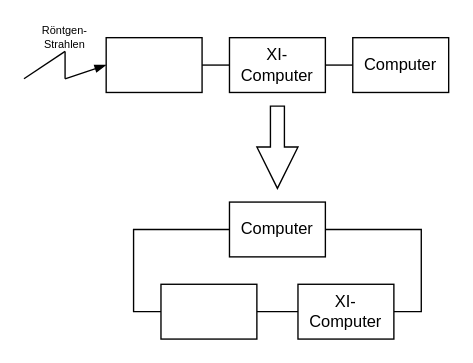
Some shapes in this 473 by 363 pixel diagram are drawn without their labels. Here are the shapes that lost their labels. From the top down, the centre of each, then its label:
At (153,64): "Imager".
At (208,311): "Imager Emulator".
